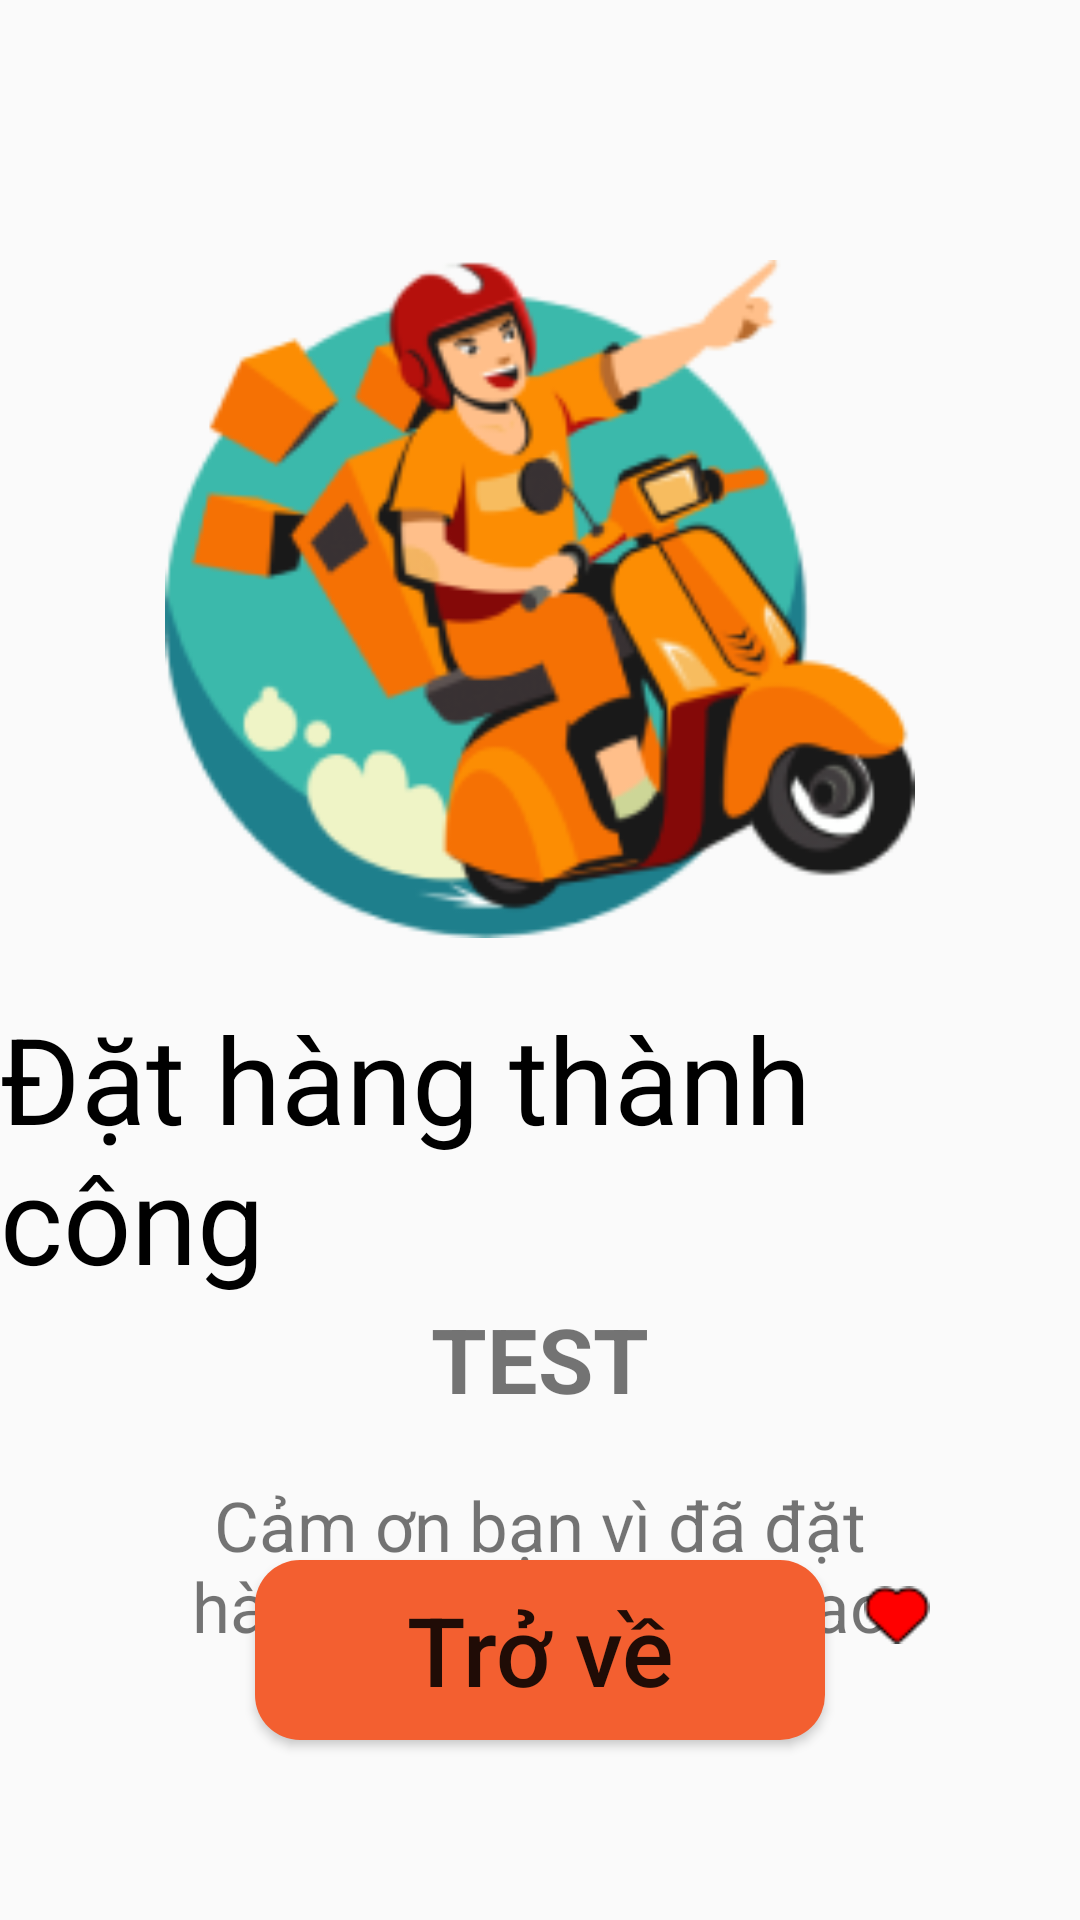

Screen size 1080×1920. Icon name, then its box in pixels as (x1, y1, x2, y2):
heart: (864, 1586, 930, 1644)
